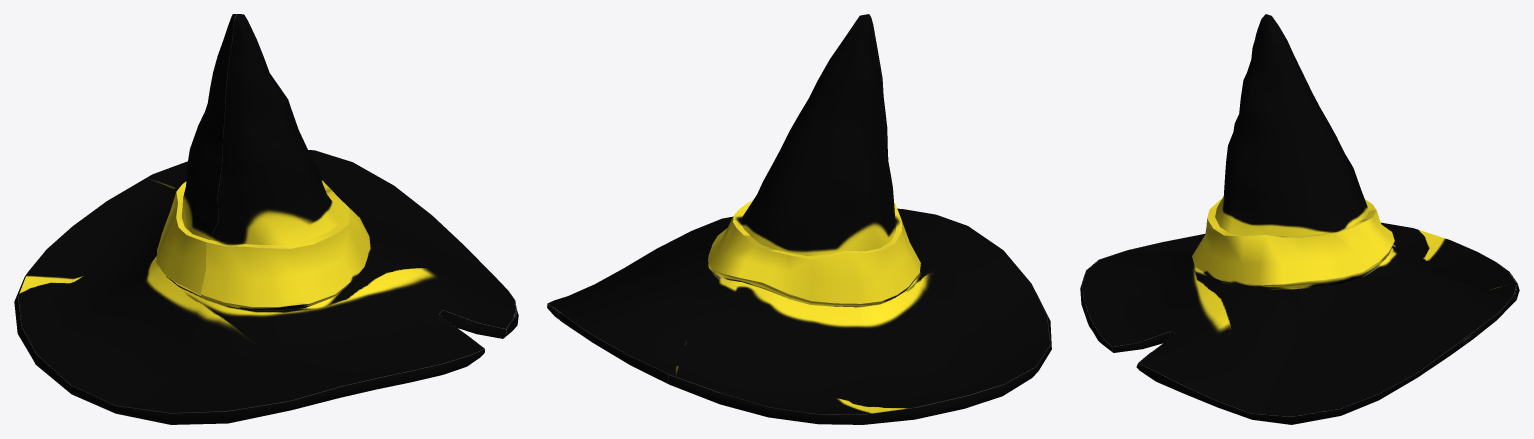
The model's file is hat2.glb.
3 views of the same model, side by side, from view 1: azimuth 30°, elevation 25°; view 2: azimuth 150°, elevation 25°; view 3: azimuth 270°, elevation 25° (orthographic). The views are drawn at different scales.
Parts seen in each view (by area): view 1: hat_LP; view 2: hat_LP; view 3: hat_LP.
Boxes of the visible parts, bbox=[...] form: hat_LP: bbox=[14, 14, 518, 424]; hat_LP: bbox=[547, 14, 1051, 424]; hat_LP: bbox=[1080, 14, 1519, 424].
Bounding box in the file's own units: 3.86 × 2.88 × 3.84.
Materials: 1 (1 with a texture image).
